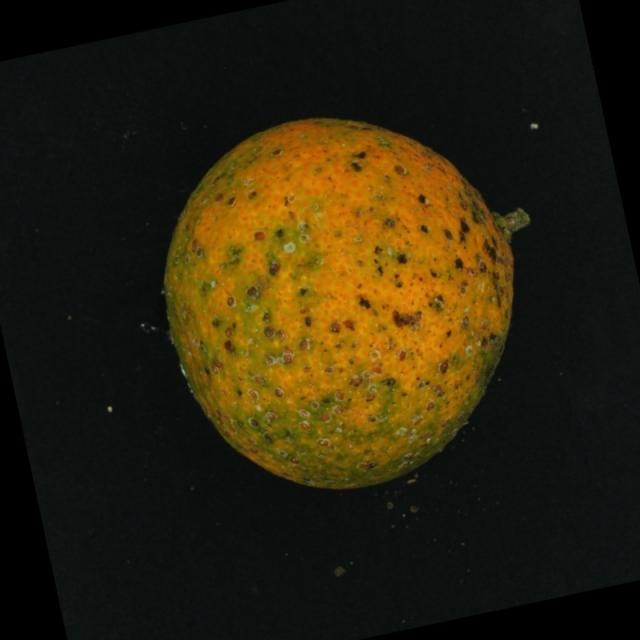grenning: (146, 92, 542, 513)
